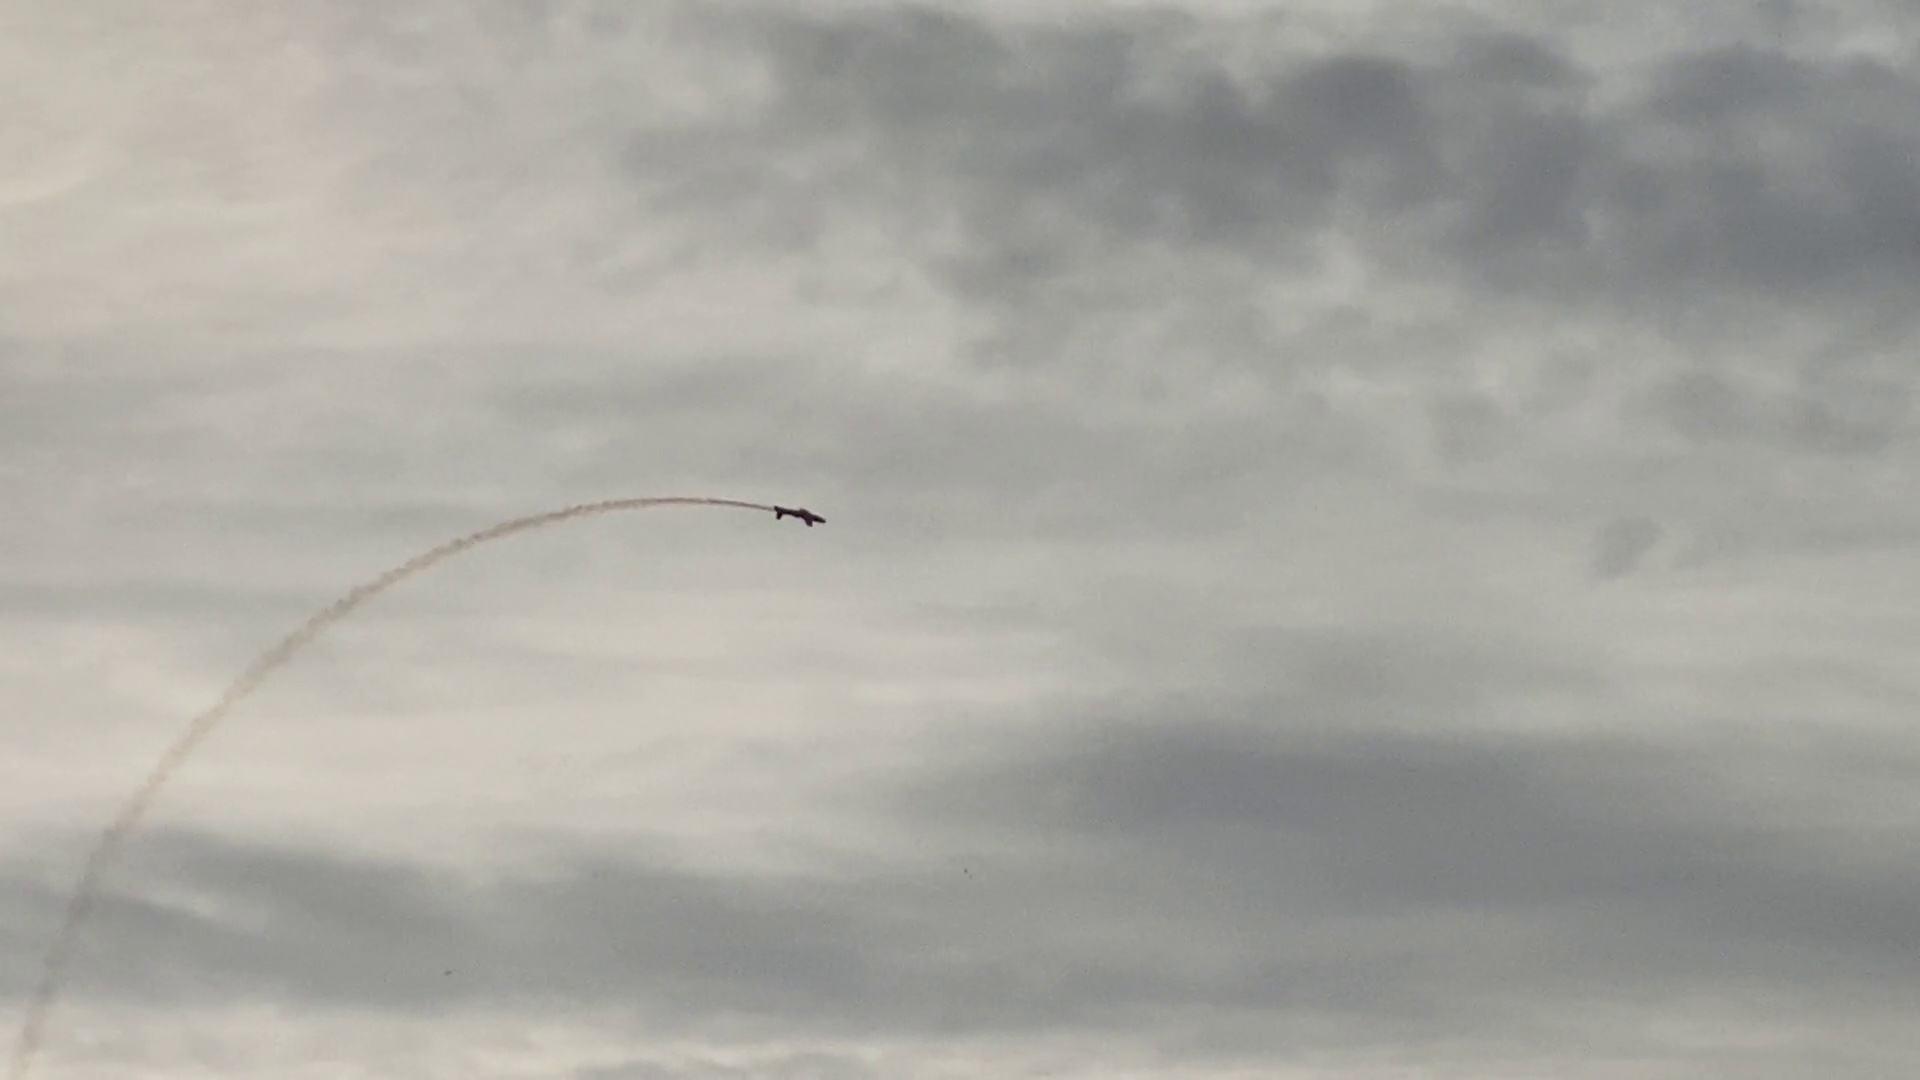plane: (771, 502, 825, 529)
